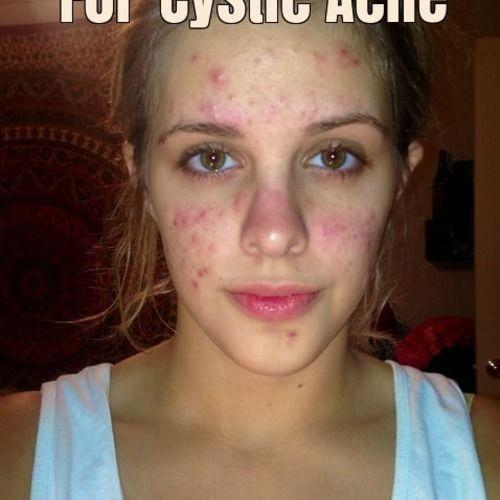Acne: (301, 42, 361, 85), (269, 314, 319, 348), (187, 261, 229, 299), (192, 61, 237, 96), (171, 194, 216, 228)
